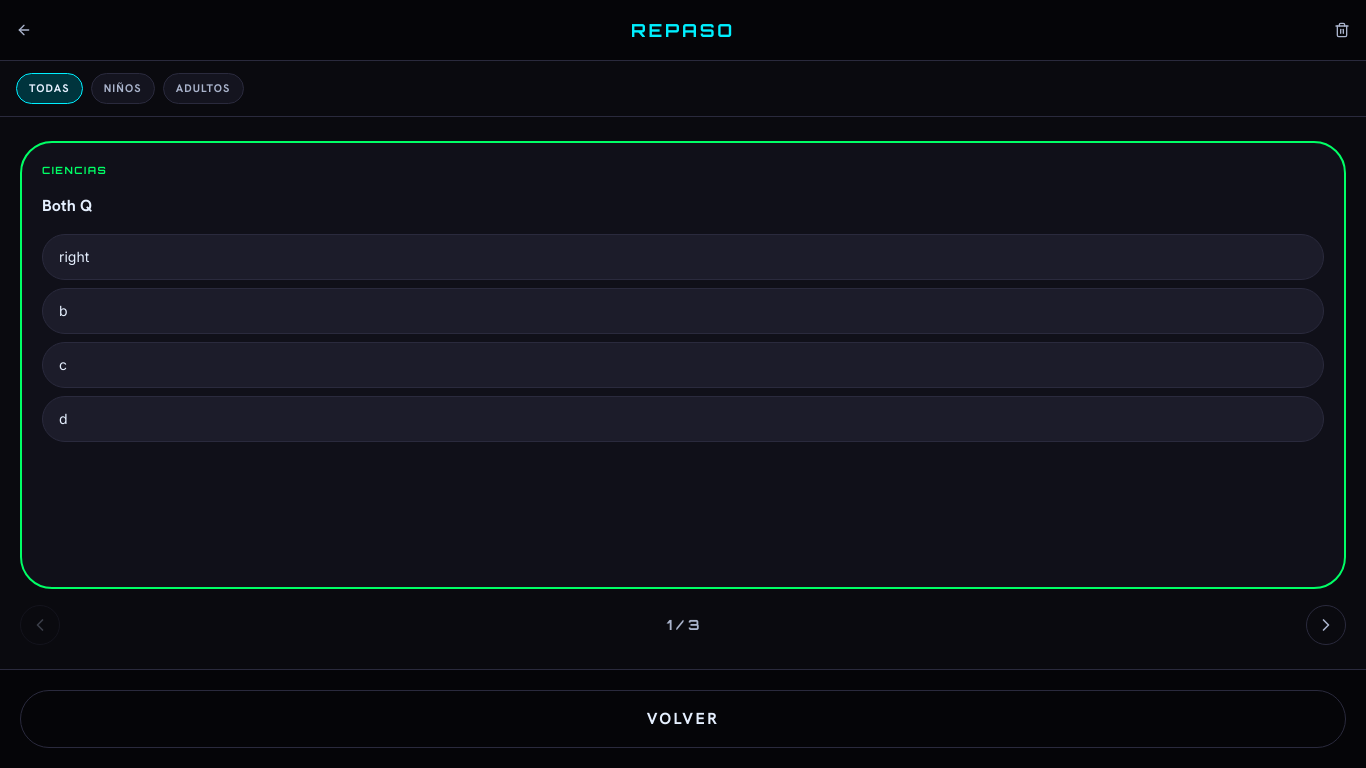
FlashcardsScreen (Repaso) › is interactive: the answer stays hidden until a choice is made
Click the button with test id "card-option-0" at (74, 256), box [42, 234, 1324, 280]
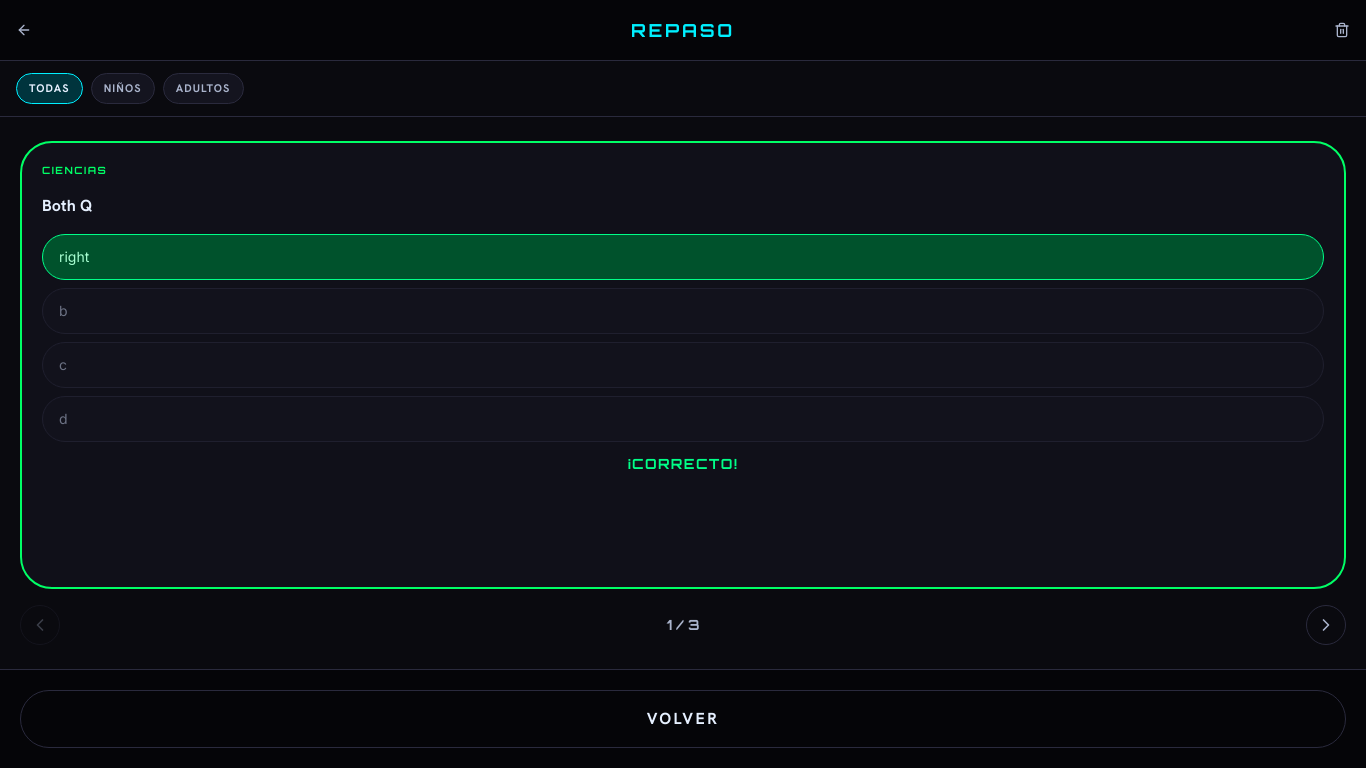
Expected: the text "¡Correcto!" is shown, [628, 454, 738, 472]
